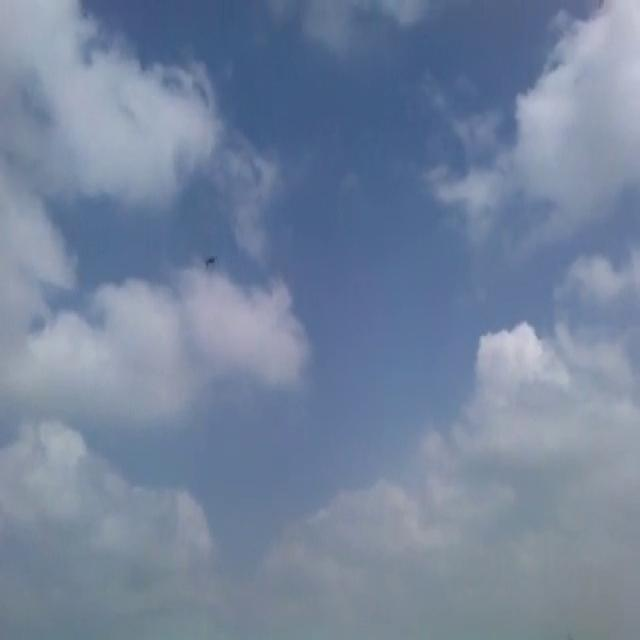drone: (203, 249, 218, 274)
